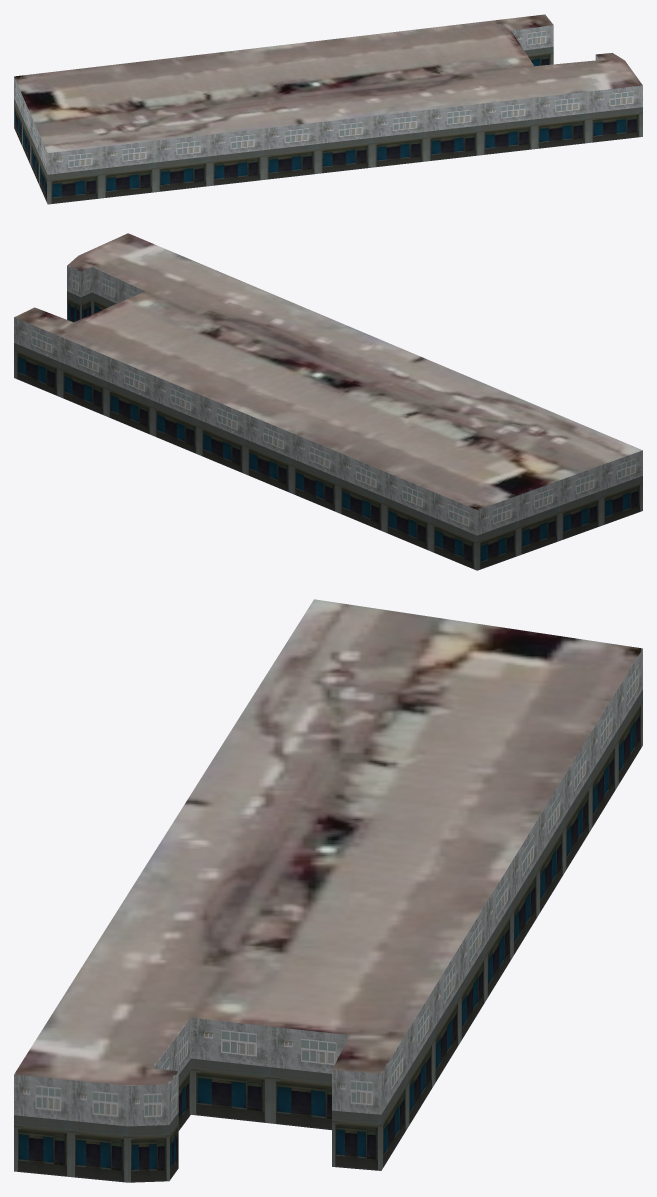
3 renders of one model, top to bottom at view 1: azimuth 30°, elevation 25°; view 2: azimuth 150°, elevation 25°; view 3: azimuth 270°, elevation 25°, orthographic. The views are drawn at different scales.
Visible parts, largest first — view 1: SketchUp (×7); view 2: SketchUp (×6); view 3: SketchUp (×12).
Part boxes in pixels (box(x1,y1,x2,y2)): SketchUp (×7): box(14, 14, 642, 204); SketchUp (×6): box(14, 233, 642, 570); SketchUp (×12): box(14, 599, 642, 1182).
Bounding box in the file's own units: 61.19 × 33.44 × 5.69.
Materials: 3 (3 with a texture image).
